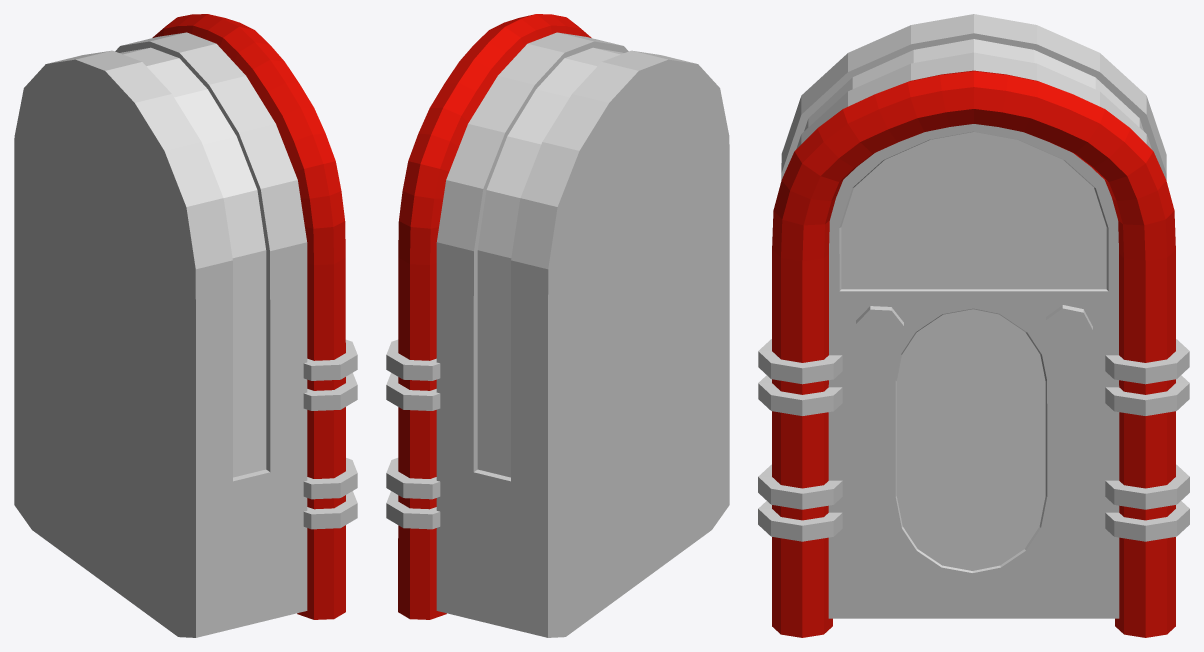
File: SM_M_JuckBox.fbx
3 renders of one model, left to right at view 1: azimuth 30°, elevation 25°; view 2: azimuth 150°, elevation 25°; view 3: azimuth 270°, elevation 25°, orthographic. The views are drawn at different scales.
Visible parts, largest first — view 1: SM_M_JuckBox; view 2: SM_M_JuckBox; view 3: SM_M_JuckBox.
Part boxes in pixels (x1,y1,x2,y2): SM_M_JuckBox: [14, 14, 357, 637]; SM_M_JuckBox: [386, 14, 729, 637]; SM_M_JuckBox: [758, 14, 1189, 637].
Size of the model in its own units: 81.56 by 245 by 172.
